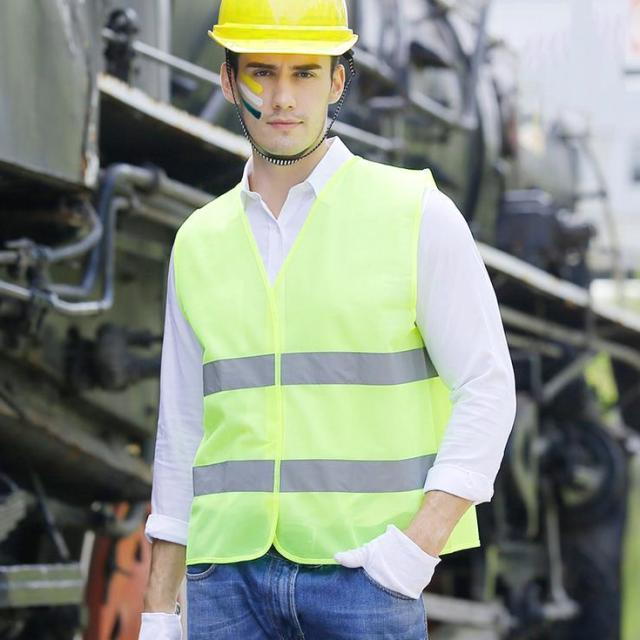face_nomask: (232, 57, 346, 159)
head_helmet: (200, 1, 360, 57)
person: (133, 1, 519, 638)
vest: (183, 171, 453, 563)
